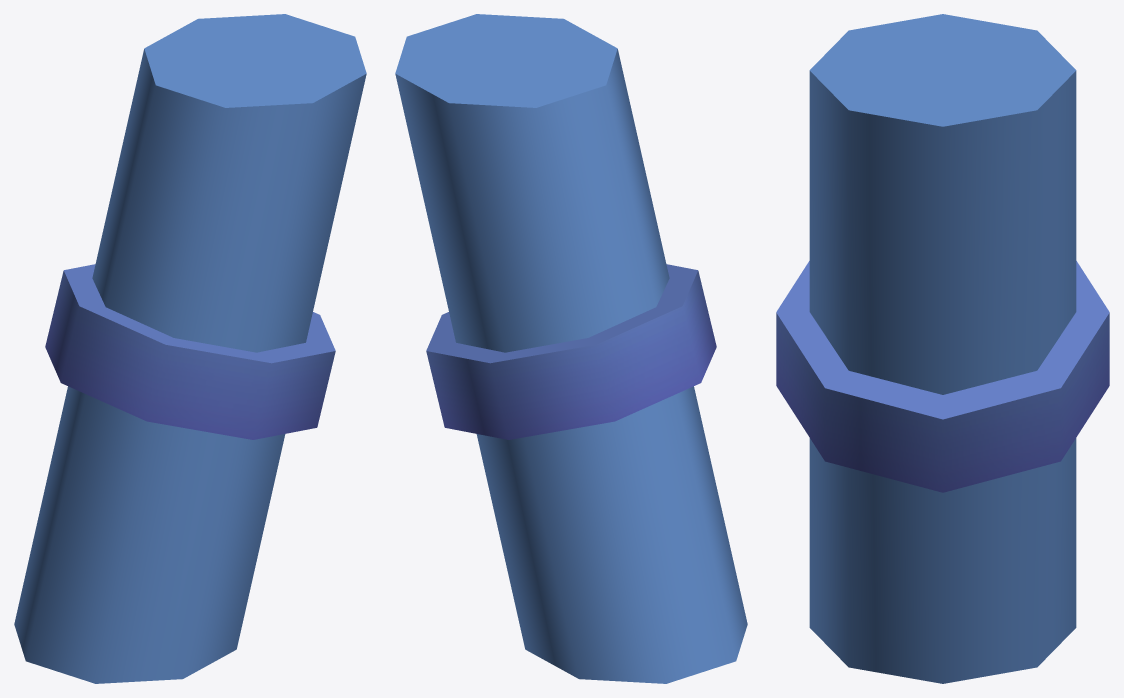
Rendered from kenney-coaster-support-large-skew.glb.
3 renders of one model, left to right at view 1: azimuth 30°, elevation 25°; view 2: azimuth 150°, elevation 25°; view 3: azimuth 270°, elevation 25°, orthographic. The views are drawn at different scales.
Parts seen in each view (by area): view 1: support-large-skew; view 2: support-large-skew; view 3: support-large-skew.
Part boxes in pixels (x1,y1,x2,y2): support-large-skew: [14, 14, 366, 683]; support-large-skew: [395, 14, 747, 683]; support-large-skew: [776, 14, 1109, 683].
Bounding box in the file's own units: 0.6335 × 1 × 0.4794.
1 material, 1 textured.
